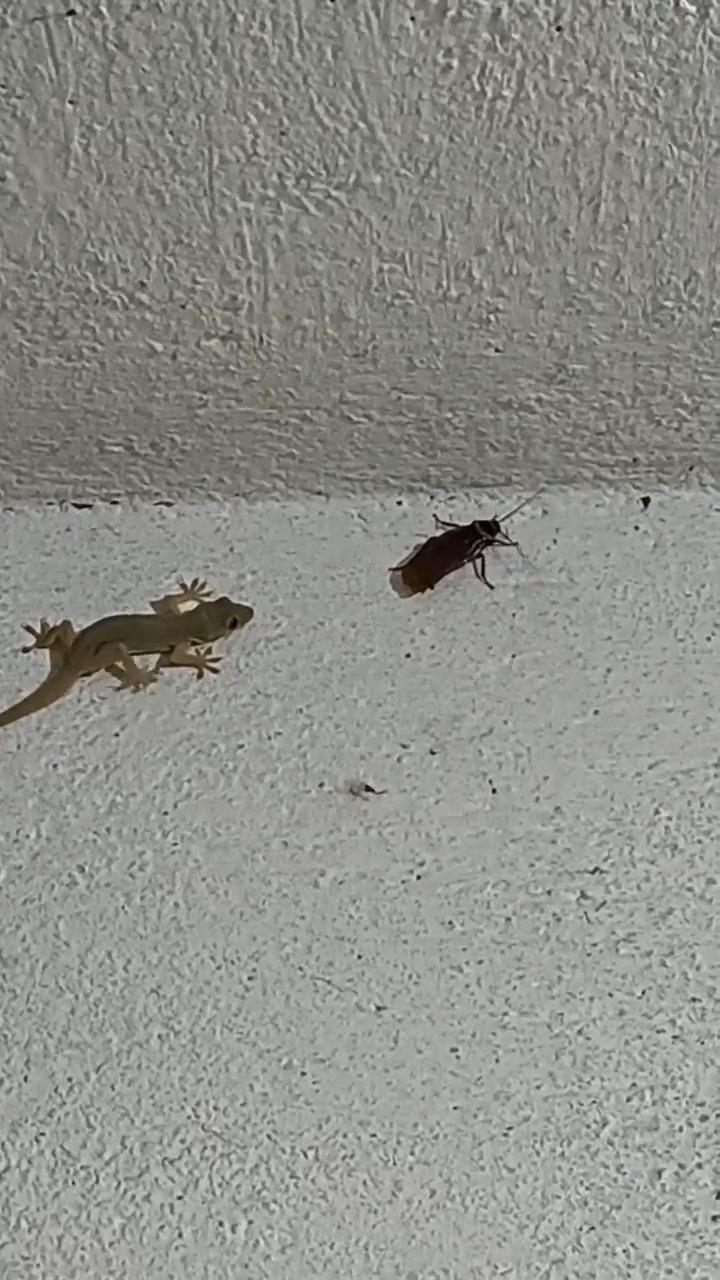cockroach: (388, 503, 527, 612)
lizard: (0, 568, 257, 722)
